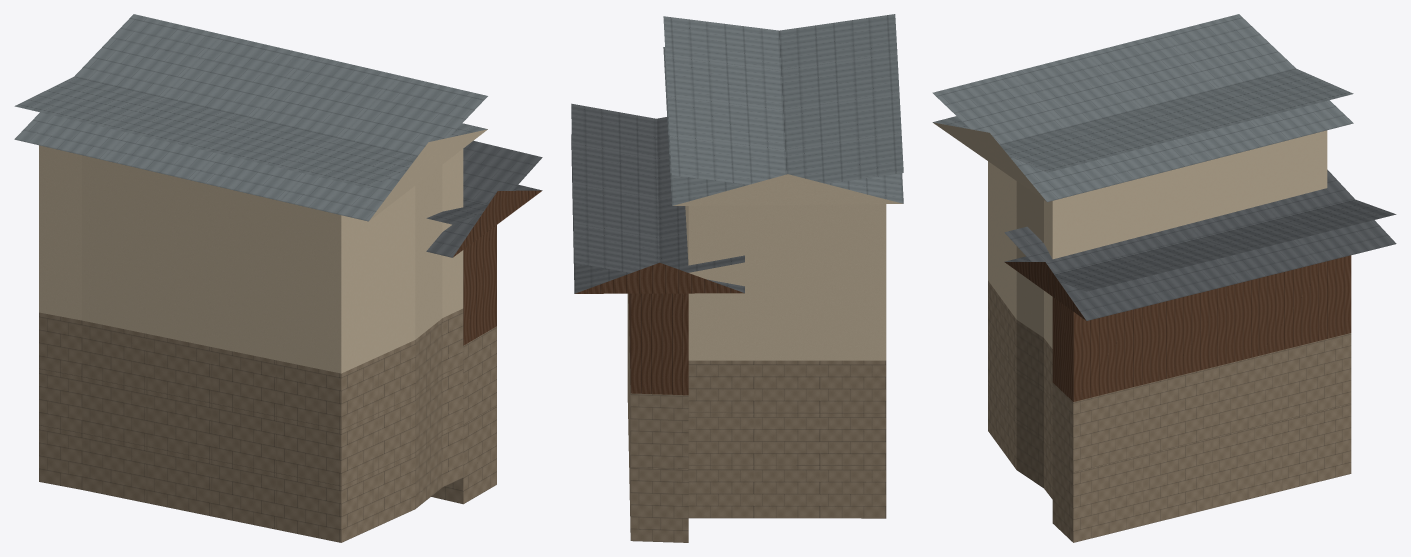
The model's file is bld_c34_45_239.gltf.
3 renders of one model, left to right at view 1: azimuth 30°, elevation 25°; view 2: azimuth 150°, elevation 25°; view 3: azimuth 270°, elevation 25°, orthographic. The views are drawn at different scales.
Visible parts, largest first — view 1: bld_c34_45_239; view 2: bld_c34_45_239; view 3: bld_c34_45_239.
Part boxes in pixels (left/top/right/bottom): bld_c34_45_239: left=14, top=14, right=542, bottom=542; bld_c34_45_239: left=571, top=14, right=903, bottom=542; bld_c34_45_239: left=932, top=14, right=1396, bottom=542.
Bounding box in the file's own units: 13.96 × 12.2 × 14.27.
7 materials, 7 textured.
